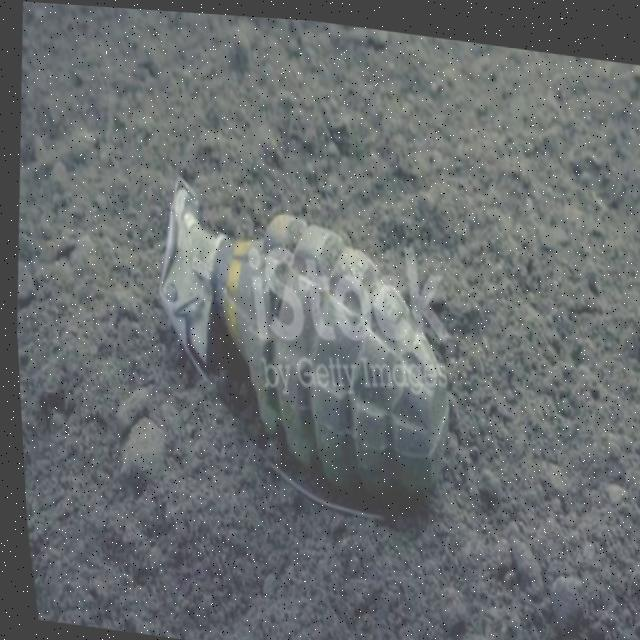grenade: (119, 129, 479, 541)
